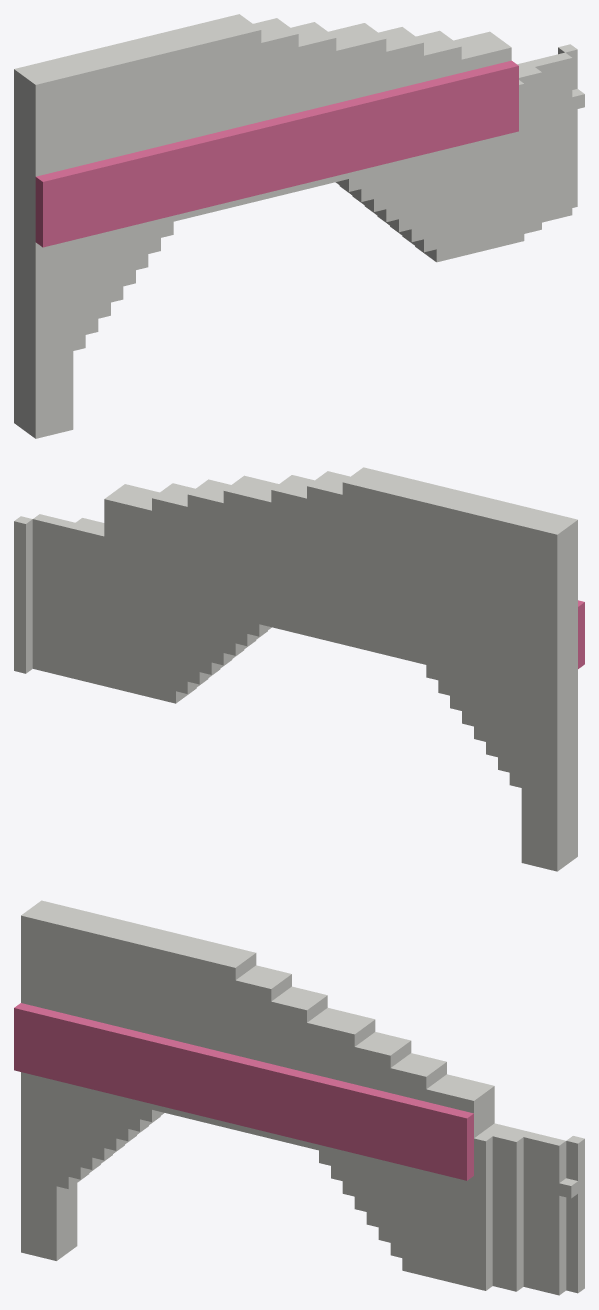
Rendered from ice_cream_van_front_wing.glb.
3 views of the same model, one above another, from view 1: azimuth 30°, elevation 25°; view 2: azimuth 150°, elevation 25°; view 3: azimuth 330°, elevation 25° (orthographic). The views are drawn at different scales.
Visible parts, largest first — view 1: body:compound; view 2: body:compound; view 3: body:compound.
Part boxes in pixels (bbox=[...]): body:compound: bbox=[14, 14, 584, 438]; body:compound: bbox=[14, 467, 584, 871]; body:compound: bbox=[14, 900, 584, 1295].
Bounding box in the file's own units: 1.41 × 0.8438 × 0.1562.
